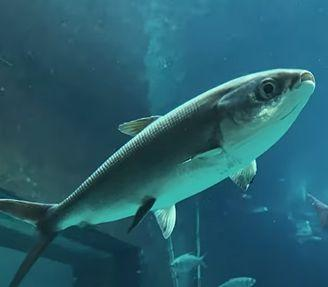Bangus: (0, 68, 316, 287)
